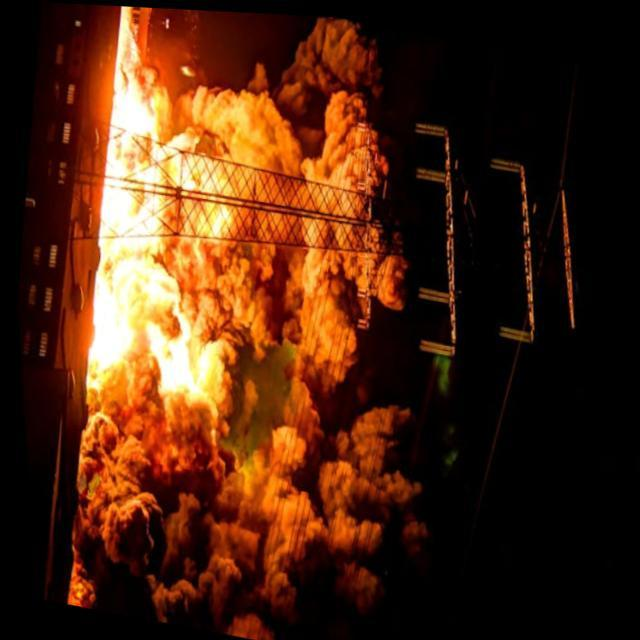fire: (32, 1, 488, 640)
